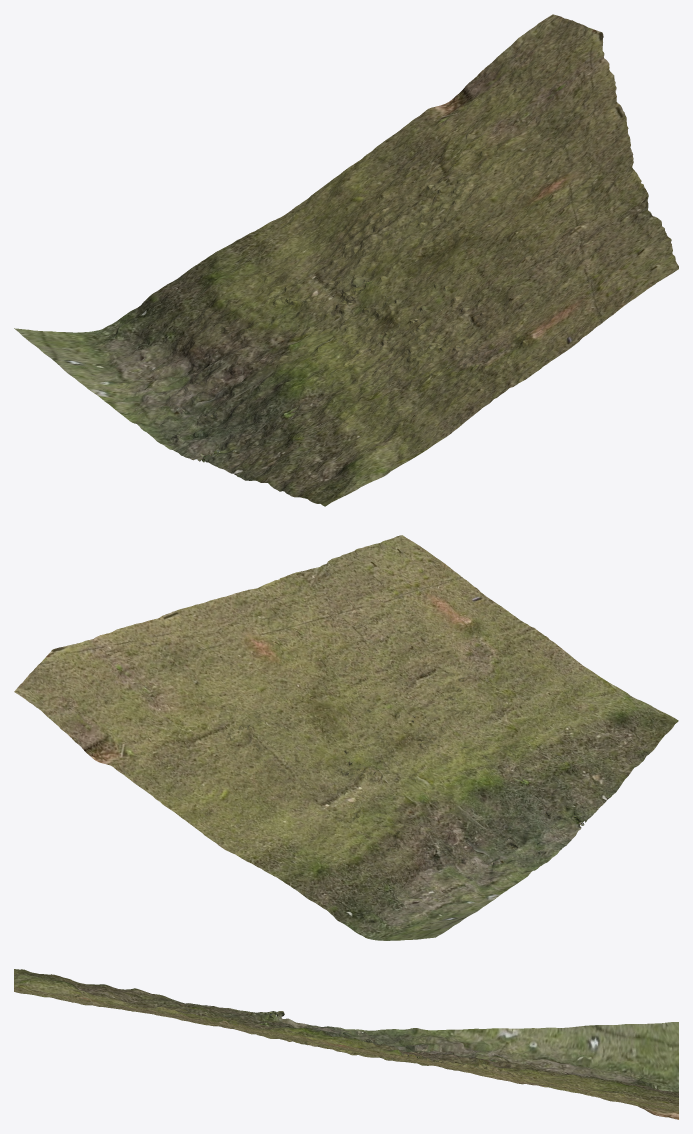
The picture shows the model from 3 angles, top to bottom: view 1: azimuth 30°, elevation 25°; view 2: azimuth 150°, elevation 25°; view 3: azimuth 270°, elevation 25°; orthographic projection. The views are drawn at different scales.
Bounding box in the file's own units: 5.05 × 2 × 5.05.
Materials: 2 (2 with a texture image).
